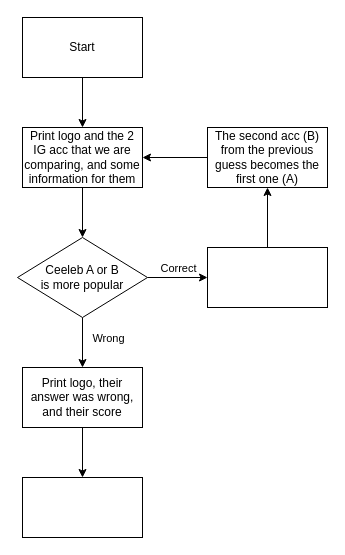
This 345x555 diagram has some shape labels left out. The shapes that lost their labels are listed below. From the top down, each one's centre as x and y in pixels, then its label:
[267,277]: Print logo, that the user is right and current score.
[82,507]: Game Over
